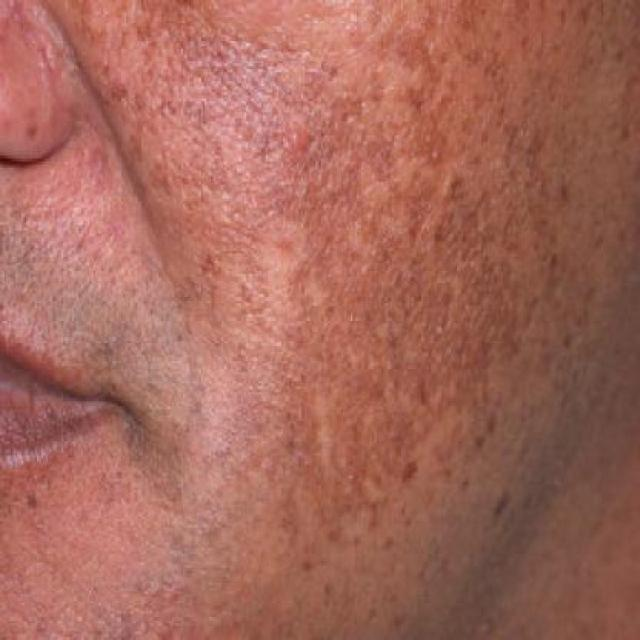melasma: (114, 2, 616, 575)
